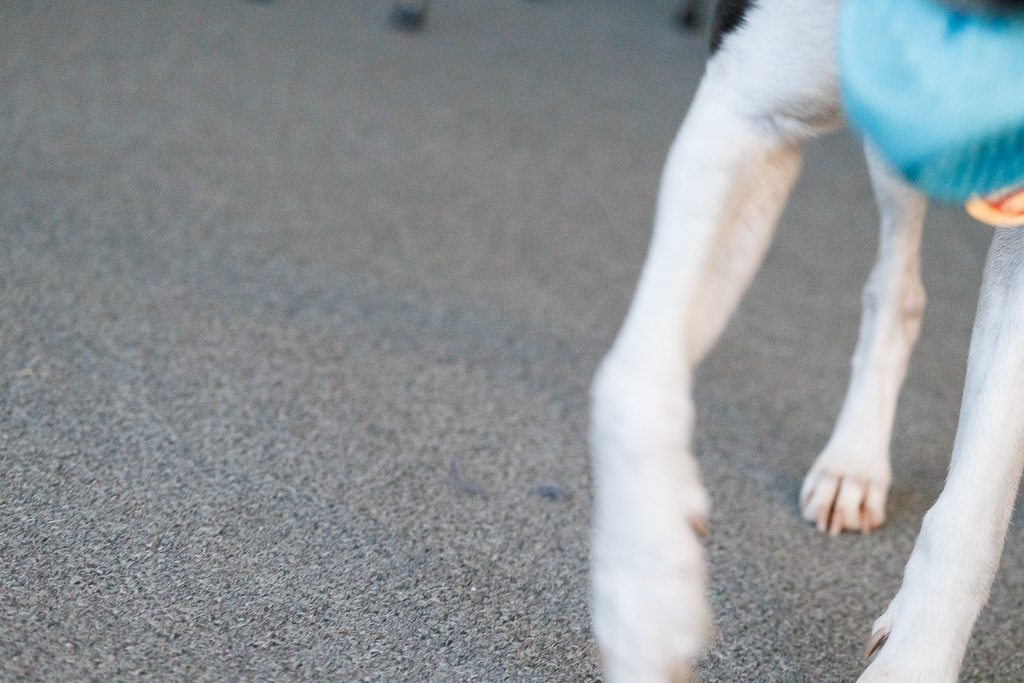Dog: (572, 0, 1024, 683)
